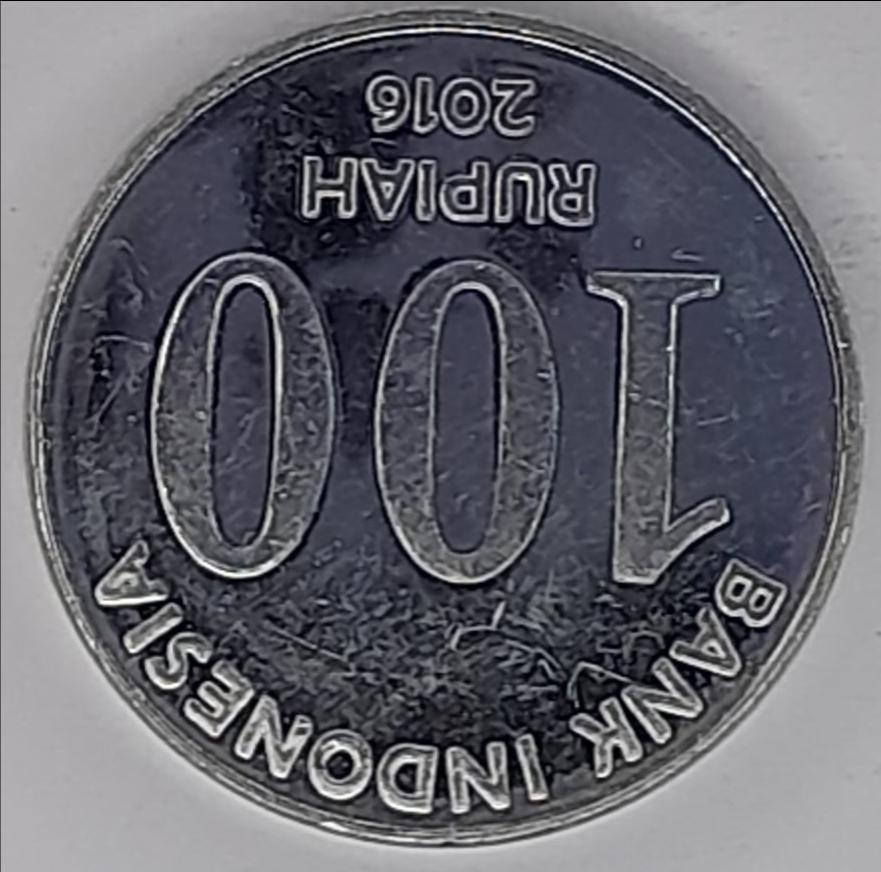coin_100_e2016: (19, 0, 869, 851)
